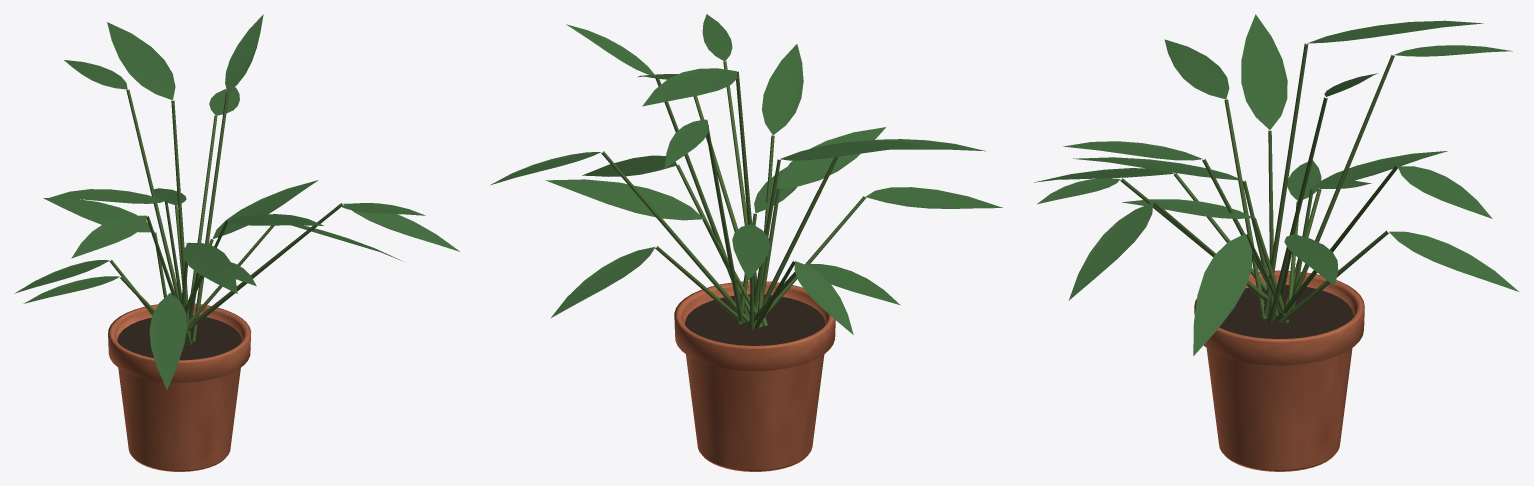
File: PH_Plant.glb
The picture shows the model from 3 angles, left to right: view 1: azimuth 30°, elevation 25°; view 2: azimuth 150°, elevation 25°; view 3: azimuth 270°, elevation 25°; orthographic projection. The views are drawn at different scales.
Visible parts, largest first — view 1: PH_Plant_Leaves, PH_Plant_Pot, PH_Plant_Stems, PH_Plant_Soil; view 2: PH_Plant_Leaves, PH_Plant_Pot, PH_Plant_Stems, PH_Plant_Soil; view 3: PH_Plant_Leaves, PH_Plant_Pot, PH_Plant_Stems, PH_Plant_Soil.
Part boxes in pixels (x1,y1,x2,y2): PH_Plant_Leaves: (14,14,460,389); PH_Plant_Pot: (108,303,251,471); PH_Plant_Stems: (109,89,342,345); PH_Plant_Soil: (117,315,241,360); PH_Plant_Leaves: (490,14,1002,334); PH_Plant_Pot: (674,281,835,471); PH_Plant_Stems: (601,61,865,329); PH_Plant_Soil: (685,294,825,345); PH_Plant_Leaves: (1034,14,1518,355); PH_Plant_Pot: (1194,270,1364,471); PH_Plant_Stems: (1120,43,1397,322); PH_Plant_Soil: (1219,285,1353,338).
Size of the model in its own units: 0.5631 by 0.5788 by 0.5717.
4 materials, 1 textured.
